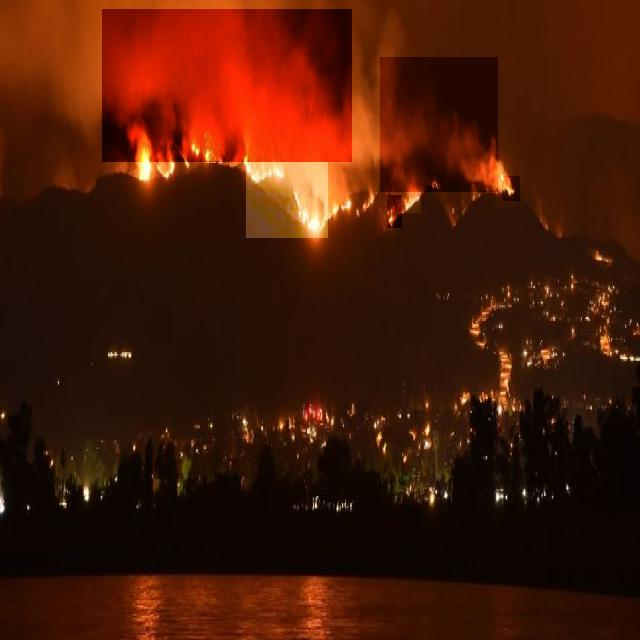Fire: (246, 150, 328, 238), (137, 136, 195, 172), (387, 195, 402, 228), (502, 176, 520, 201), (406, 192, 421, 213)
Smoke: (102, 9, 352, 162), (380, 57, 498, 192)
